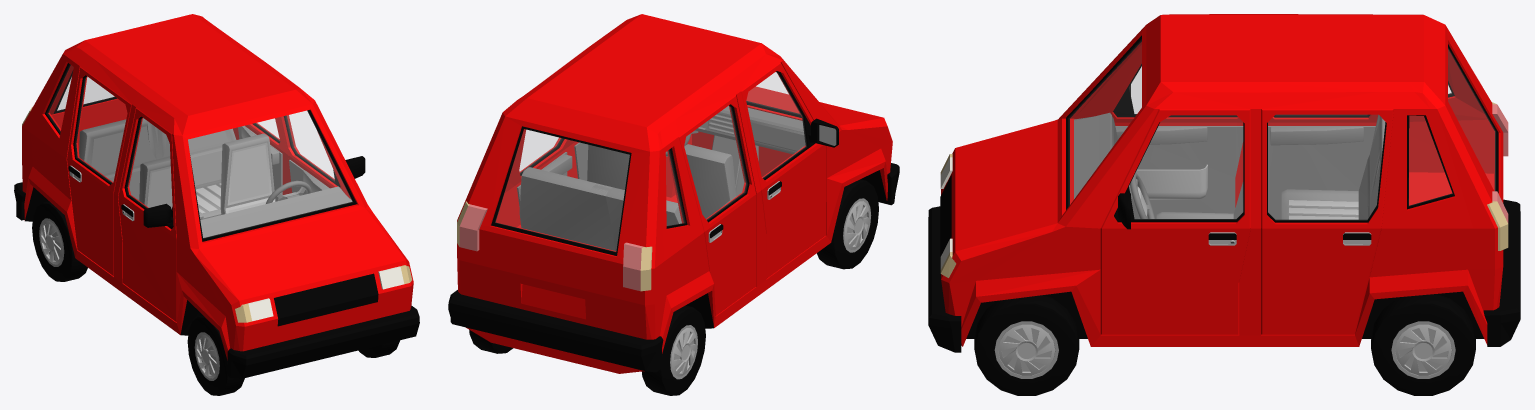
The model's file is YS_NewCar.glb.
3 views of the same model, side by side, from view 1: azimuth 30°, elevation 25°; view 2: azimuth 150°, elevation 25°; view 3: azimuth 270°, elevation 25° (orthographic). The views are drawn at different scales.
Visible parts, largest first — view 1: Chassis_Chassis_0, Windows_Windows_0, Chassis_Bumpers_0, Interior_InteriorPanel_0, FR_Door_Chassis_0, RR_Door_Chassis_0, Interior_Handler_0, RR_Door_Windows_0, FR_Door_Windows_0, RR_Wheel_Tire_0, FR_Wheel_Tire_0, FL_Door_Windows_0 (+13 smaller); view 2: Chassis_Chassis_0, Windows_Windows_0, Interior_InteriorPanel_0, Chassis_Bumpers_0, FR_Door_Chassis_0, RR_Door_Chassis_0, RR_Door_Windows_0, FR_Door_Windows_0, FR_Wheel_Tire_0, RR_Wheel_Tire_0, Brake_Lights_Brake_lights_0, Interior_InteriorPanel_0.001 (+12 smaller); view 3: Chassis_Chassis_0, FL_Door_Chassis_0, RL_Door_Chassis_0, RL_Door_Windows_0, Windows_Windows_0, FL_Door_Windows_0, Chassis_Bumpers_0, RR_Door_InteriorPanel_0, FR_Door_InteriorPanel_0, RL_Wheel_Tire_0, FL_Wheel_Tire_0, Interior_InteriorPanel_0 (+14 smaller).
Boxes of the visible parts, x1,y1,x2,y2 form: Chassis_Chassis_0: (22, 14, 413, 360); Windows_Windows_0: (48, 65, 352, 237); Chassis_Bumpers_0: (14, 63, 419, 378); Interior_InteriorPanel_0: (79, 118, 352, 237); FR_Door_Chassis_0: (118, 108, 176, 321); RR_Door_Chassis_0: (67, 67, 131, 276); Interior_Handler_0: (147, 142, 274, 213); RR_Door_Windows_0: (76, 77, 126, 182); FR_Door_Windows_0: (127, 118, 171, 207); RR_Wheel_Tire_0: (32, 201, 87, 281); FR_Wheel_Tire_0: (187, 315, 244, 395); FL_Door_Windows_0: (286, 111, 334, 180); Chassis_Chassis_0: (457, 14, 892, 373); Windows_Windows_0: (495, 73, 798, 251); Interior_InteriorPanel_0: (519, 105, 803, 250); Chassis_Bumpers_0: (448, 101, 899, 372); FR_Door_Chassis_0: (741, 62, 826, 278); RR_Door_Chassis_0: (678, 95, 756, 315); RR_Door_Windows_0: (685, 106, 746, 219); FR_Door_Windows_0: (747, 73, 805, 177); FR_Wheel_Tire_0: (817, 179, 878, 269); RR_Wheel_Tire_0: (642, 305, 705, 395); Brake_Lights_Brake_lights_0: (459, 204, 643, 291); Interior_InteriorPanel_0.001: (691, 113, 805, 151); Chassis_Chassis_0: (941, 14, 1503, 346); FL_Door_Chassis_0: (1100, 109, 1250, 334); RL_Door_Chassis_0: (1261, 109, 1393, 334); RL_Door_Windows_0: (1268, 115, 1384, 219); Windows_Windows_0: (1069, 41, 1495, 205); FL_Door_Windows_0: (1130, 116, 1242, 218); Chassis_Bumpers_0: (928, 35, 1520, 352); RR_Door_InteriorPanel_0: (1268, 126, 1375, 219); FR_Door_InteriorPanel_0: (1115, 126, 1243, 218); RL_Wheel_Tire_0: (1371, 294, 1475, 395); FL_Wheel_Tire_0: (974, 295, 1079, 395); Interior_InteriorPanel_0: (1074, 112, 1385, 219).
Size of the model in its own units: 5.14 by 5.15 by 9.39.
